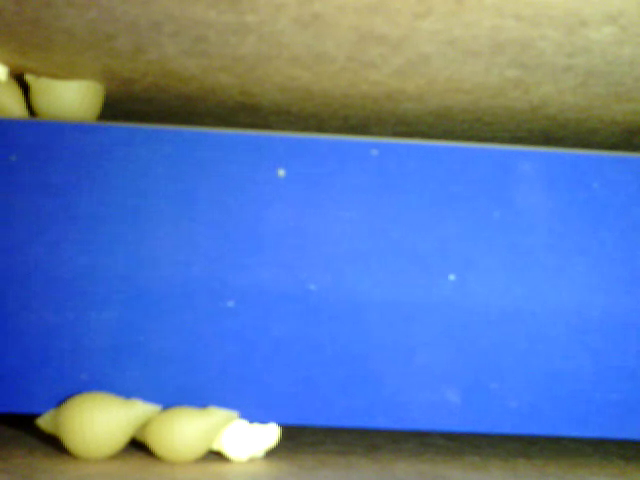shell: (36, 394, 160, 460), (130, 400, 242, 464), (20, 71, 110, 125)
